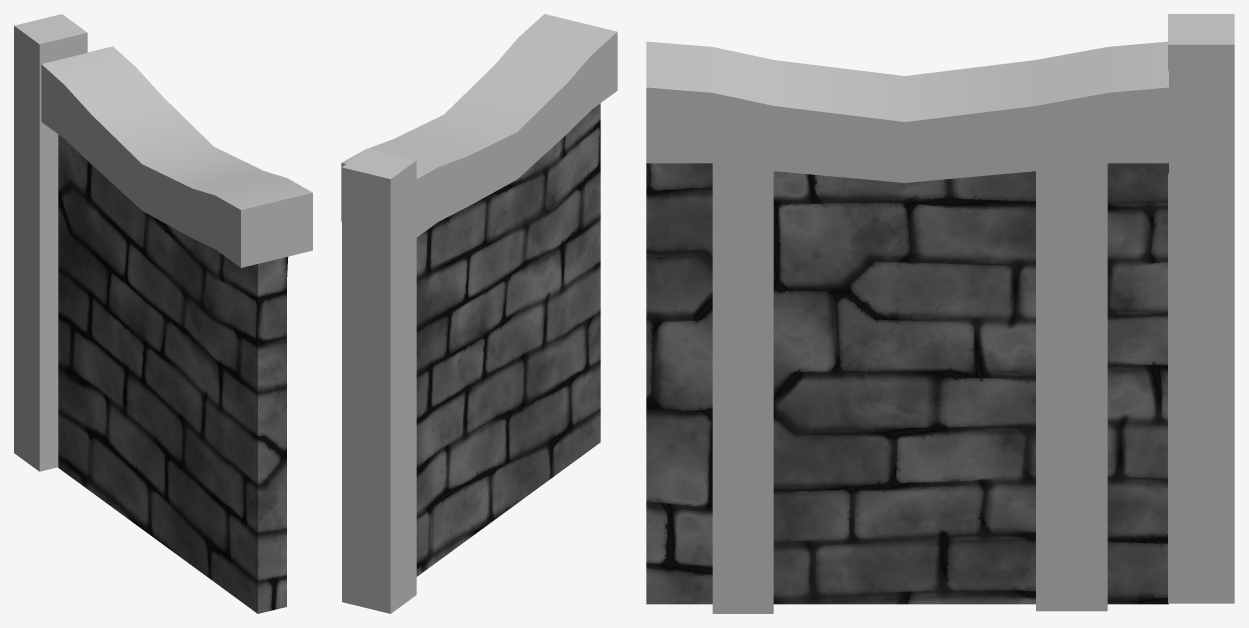
The model's file is muur_3 1.fbx.
3 renders of one model, left to right at view 1: azimuth 30°, elevation 25°; view 2: azimuth 150°, elevation 25°; view 3: azimuth 270°, elevation 25°, orthographic. The views are drawn at different scales.
Parts seen in each view (by area): view 1: muur3; view 2: muur3; view 3: muur3.
Part boxes in pixels (x1,y1,x2,y2): muur3: (14, 14, 312, 613); muur3: (341, 14, 617, 613); muur3: (646, 14, 1234, 613).
Size of the model in its own units: 0.3785 by 2.1 by 2.
